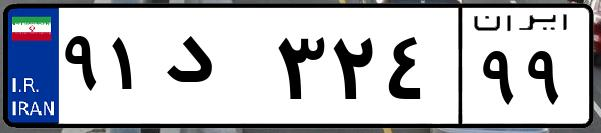1: (110, 28, 158, 98)
2: (330, 28, 385, 110)
3: (270, 28, 330, 110)
4: (385, 28, 445, 110)
9: (57, 26, 110, 100), (475, 38, 525, 113), (525, 38, 570, 115)
د: (158, 20, 270, 120)
